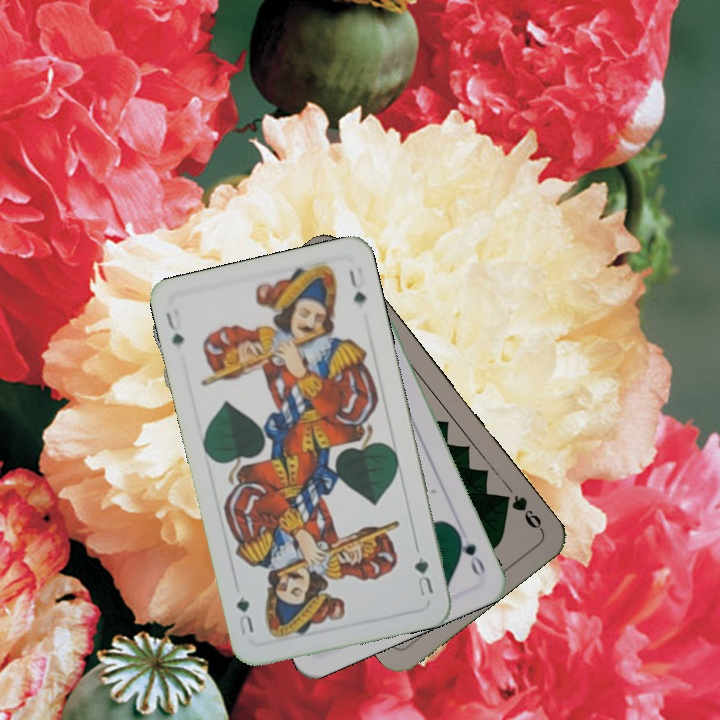G9: (496, 490, 546, 534)
GO: (451, 526, 488, 579)
GU: (410, 553, 436, 599), (162, 305, 187, 348)
